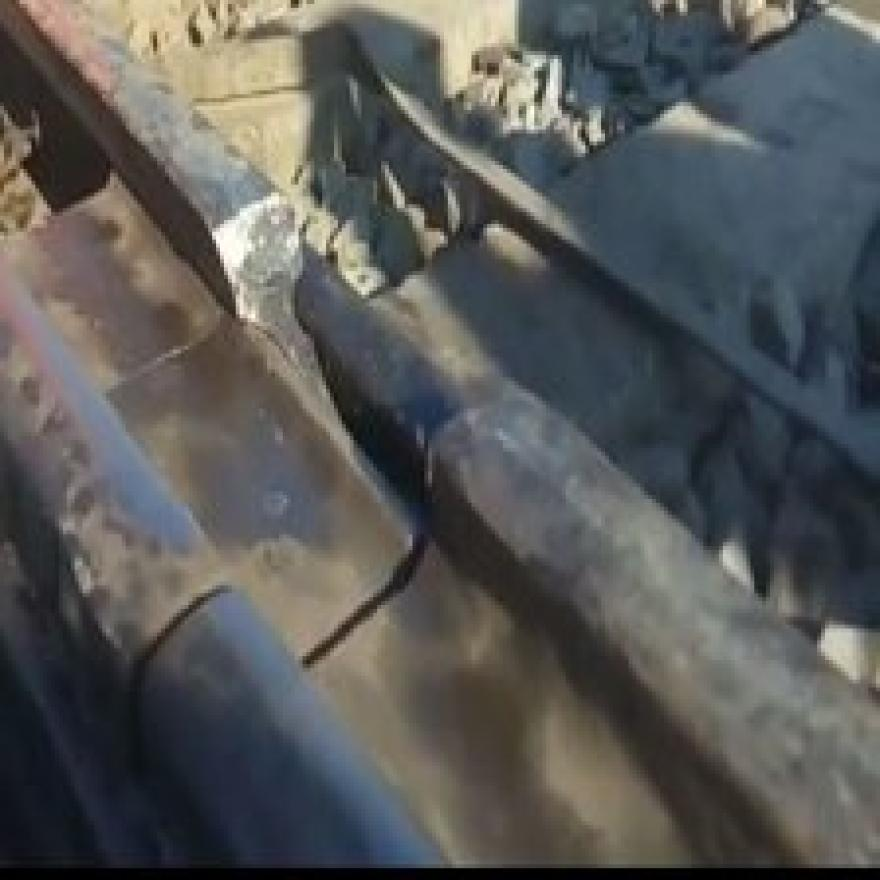railway-gap: (71, 119, 625, 706)
